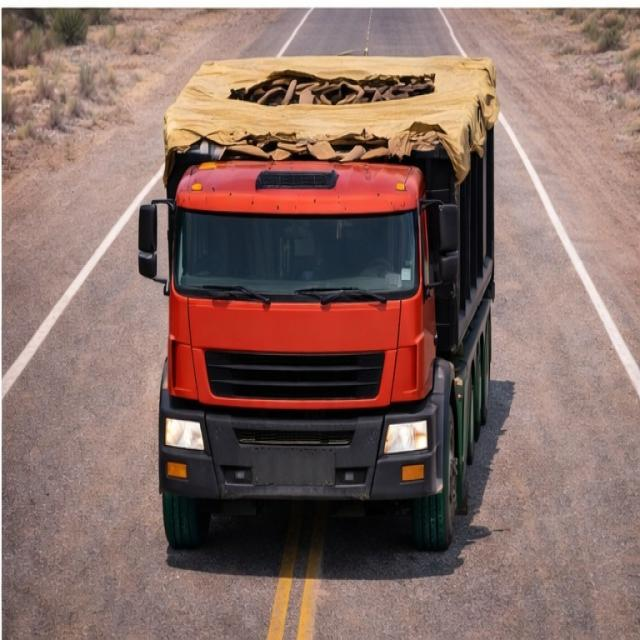trailer: (176, 54, 494, 169)
truck: (133, 58, 507, 545)
